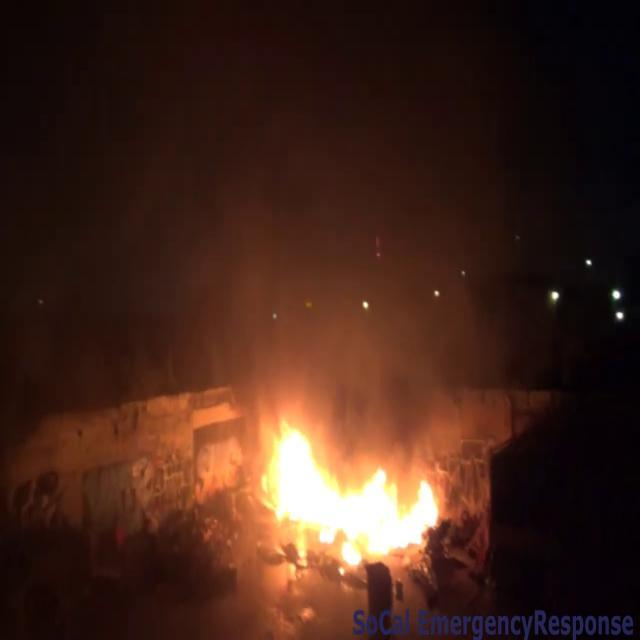Fire: (248, 410, 452, 566)
Smoke: (102, 0, 509, 442)
